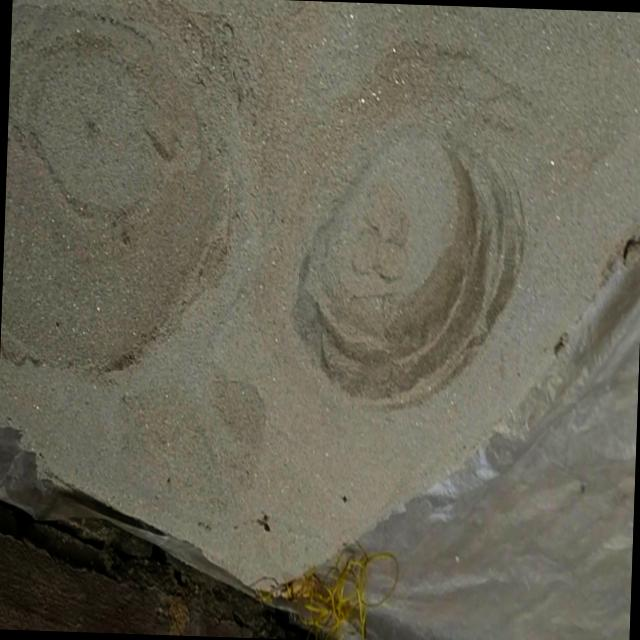C20: (1, 9, 227, 369), (296, 127, 509, 395)
